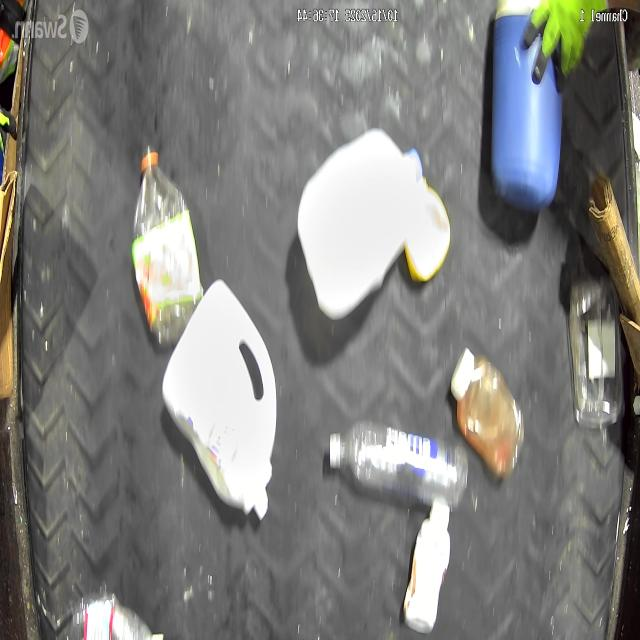milk_jug: (160, 282, 281, 520), (298, 129, 434, 310)
plastic_bottle: (330, 427, 470, 515)
